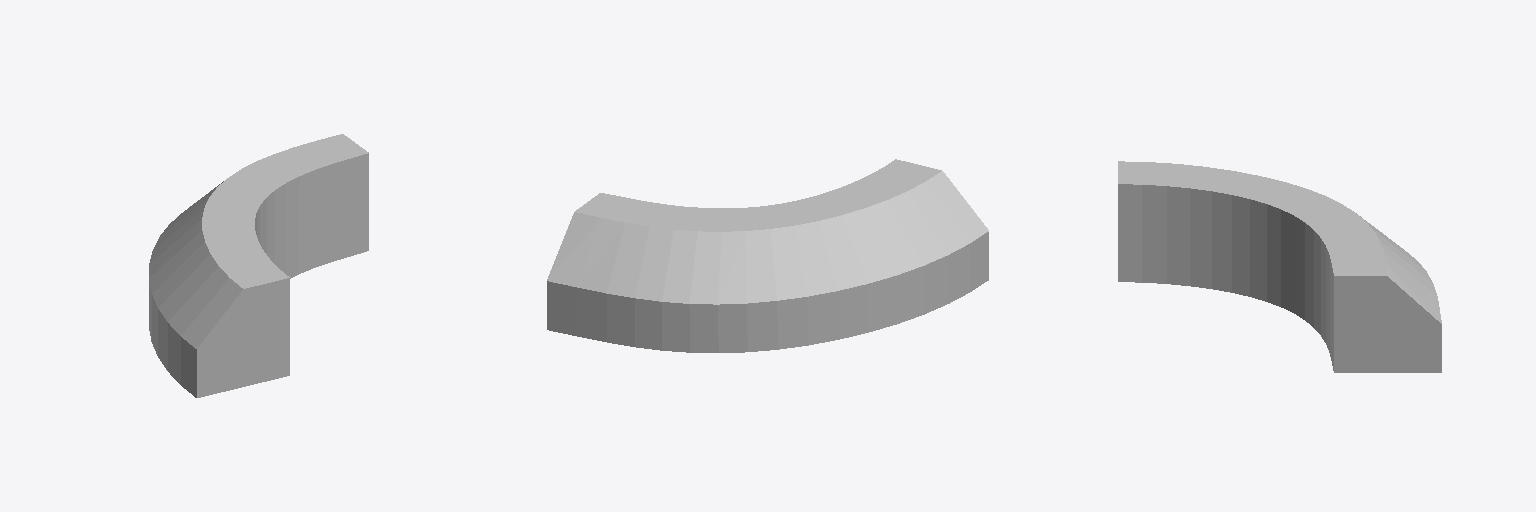
File: InsideBend_LP.obj
The picture shows the model from 3 angles: view 1: azimuth 30°, elevation 25°; view 2: azimuth 150°, elevation 25°; view 3: azimuth 270°, elevation 25°; orthographic projection.
Visible parts, largest first — view 1: InsideBend; view 2: InsideBend; view 3: InsideBend.
Part boxes in pixels (left/top/right/bottom): InsideBend: left=149, top=134, right=368, bottom=397; InsideBend: left=547, top=159, right=988, bottom=352; InsideBend: left=1118, top=161, right=1441, bottom=372.
Bounding box in the file's own units: 3 × 1 × 3.